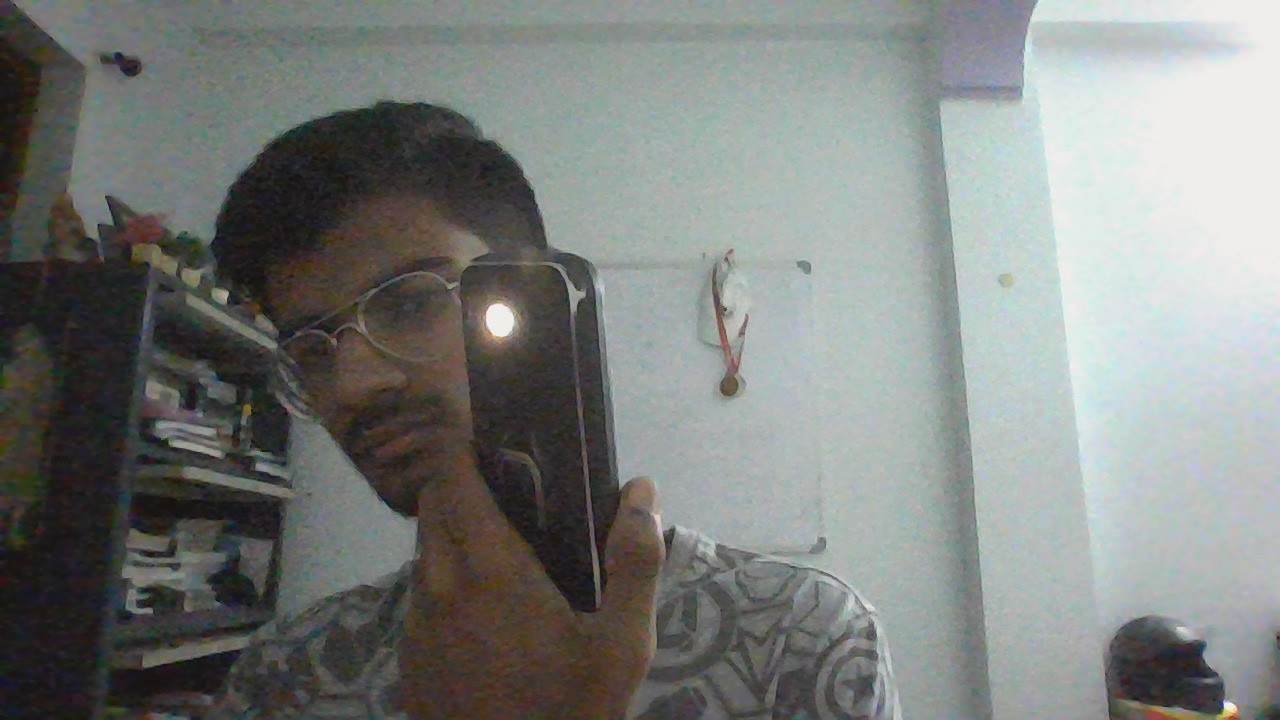Glare: (487, 303, 514, 338)
